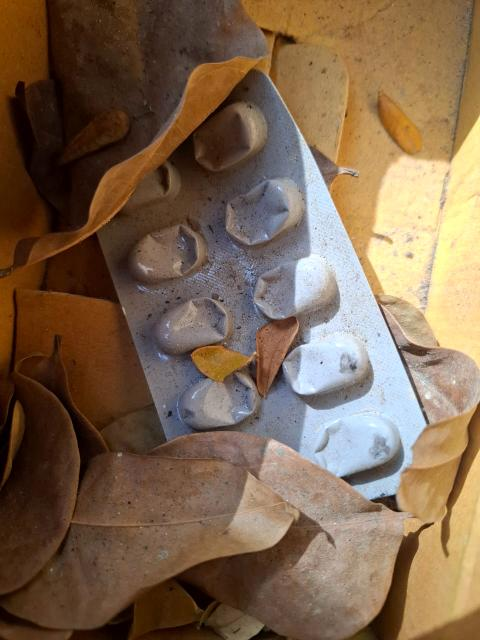medicine: (42, 52, 434, 551)
